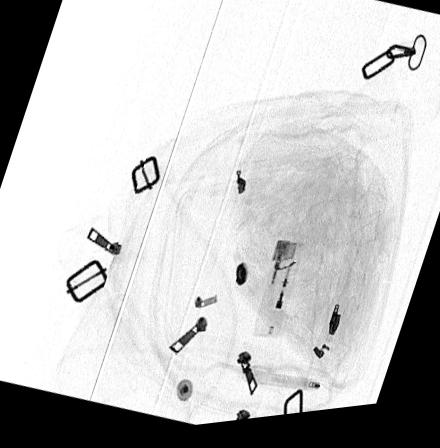Lighter: (252, 246, 304, 345)
